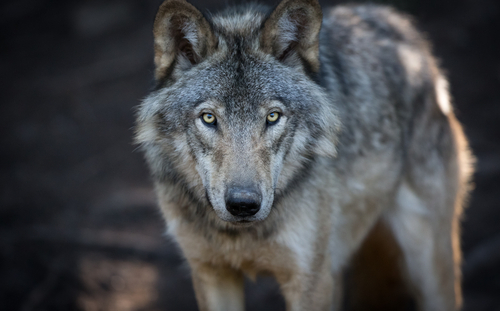Lobo: (127, 4, 466, 293)
